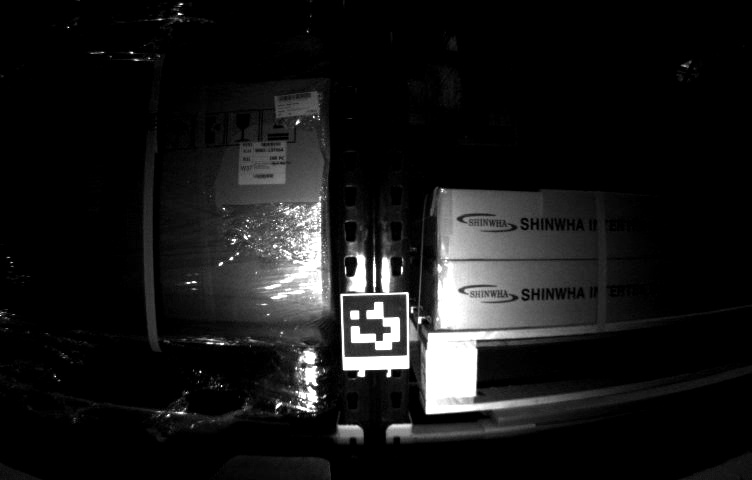True Barcode: (239, 145, 288, 184)
